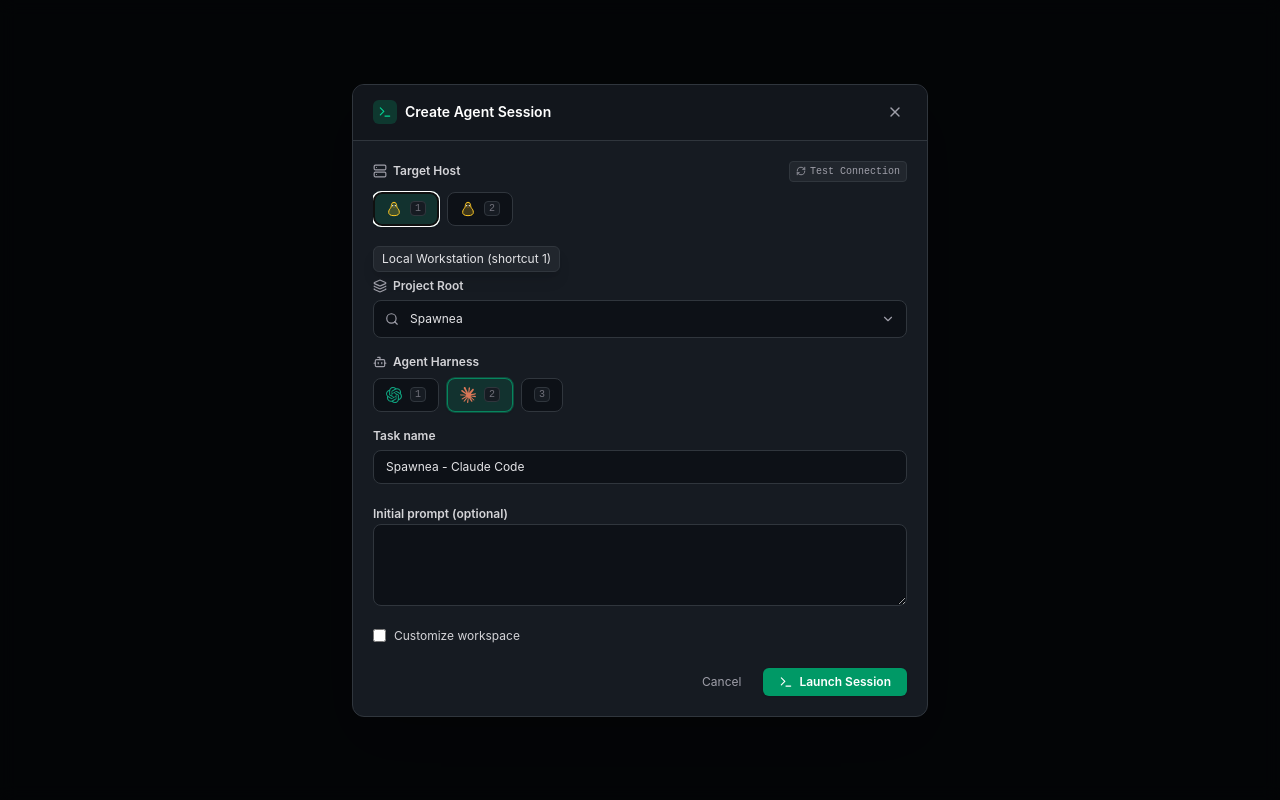
CreateSessionModal › closes only the open combobox dropdown and keeps modal open when Escape is pressed on project combobox
The width and height of the screenshot is (1280, 800).
Step 1. Focus the dropdown with test id "select-project-input" → [640, 318], box [373, 300, 907, 338]
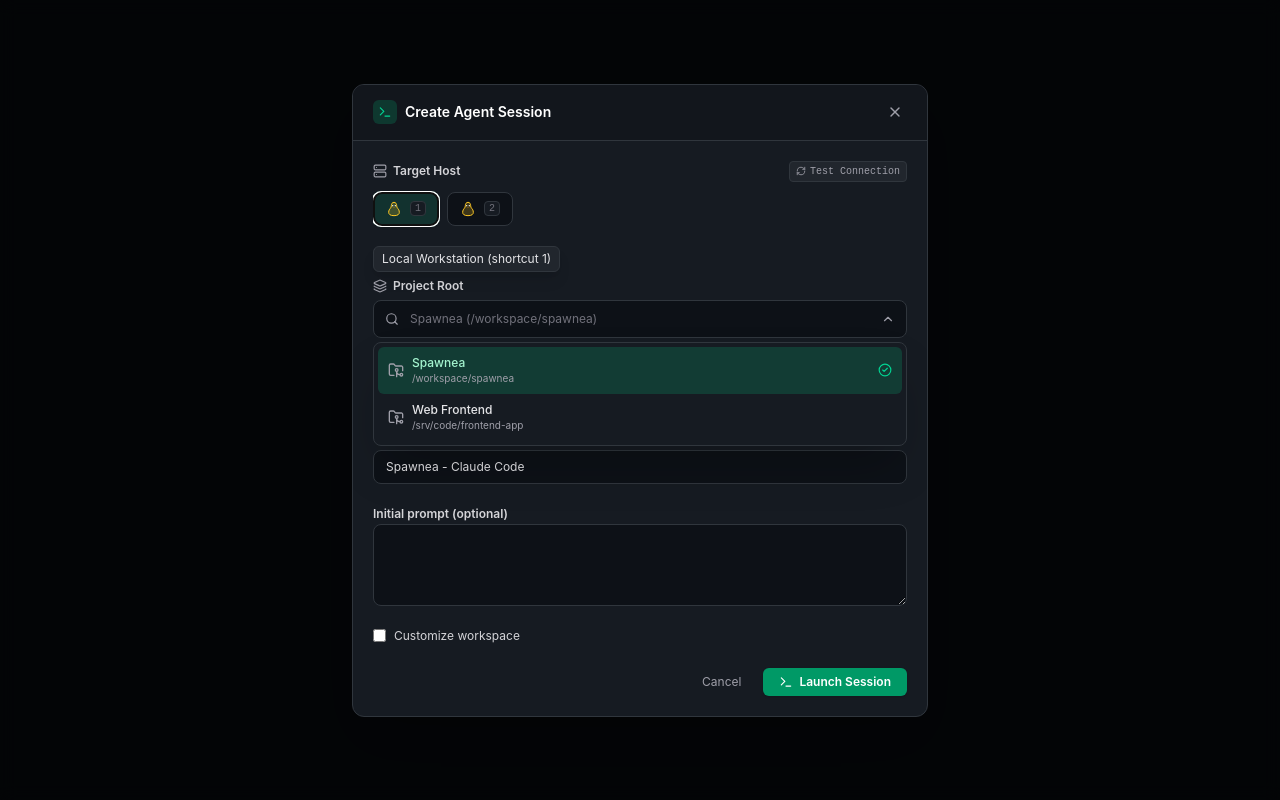
Expected: the list is shown, [373, 342, 907, 446]
// Press Escape on the open combobox
Step 2. Press Escape in the dropdown with test id "select-project-input", box [373, 300, 907, 338]
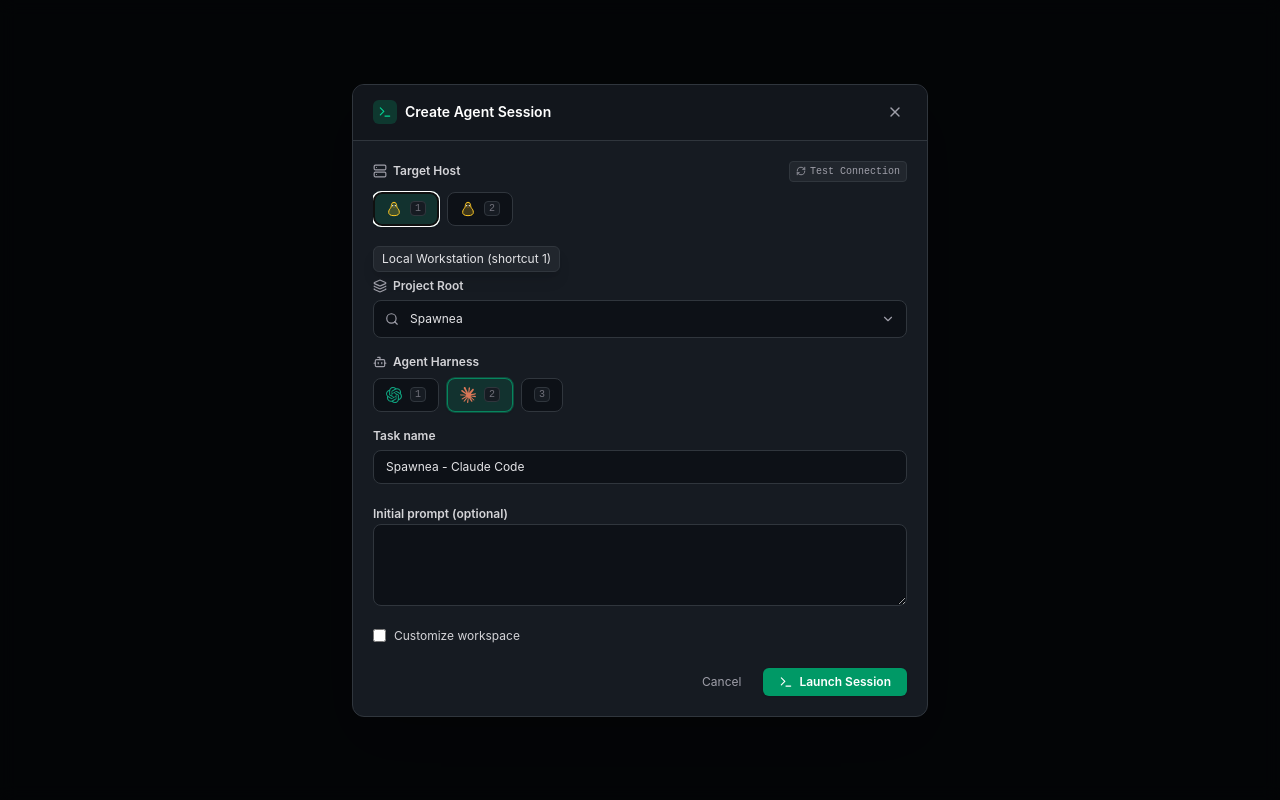
Expected: the list is gone
